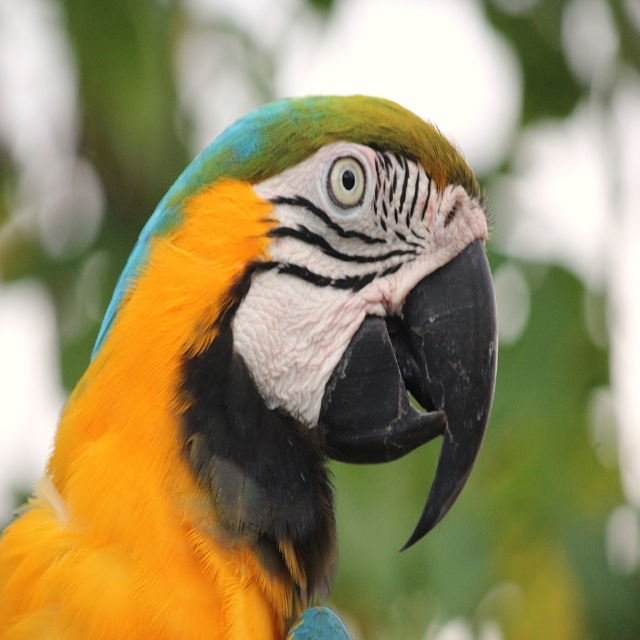Parrot: (0, 93, 498, 639)
